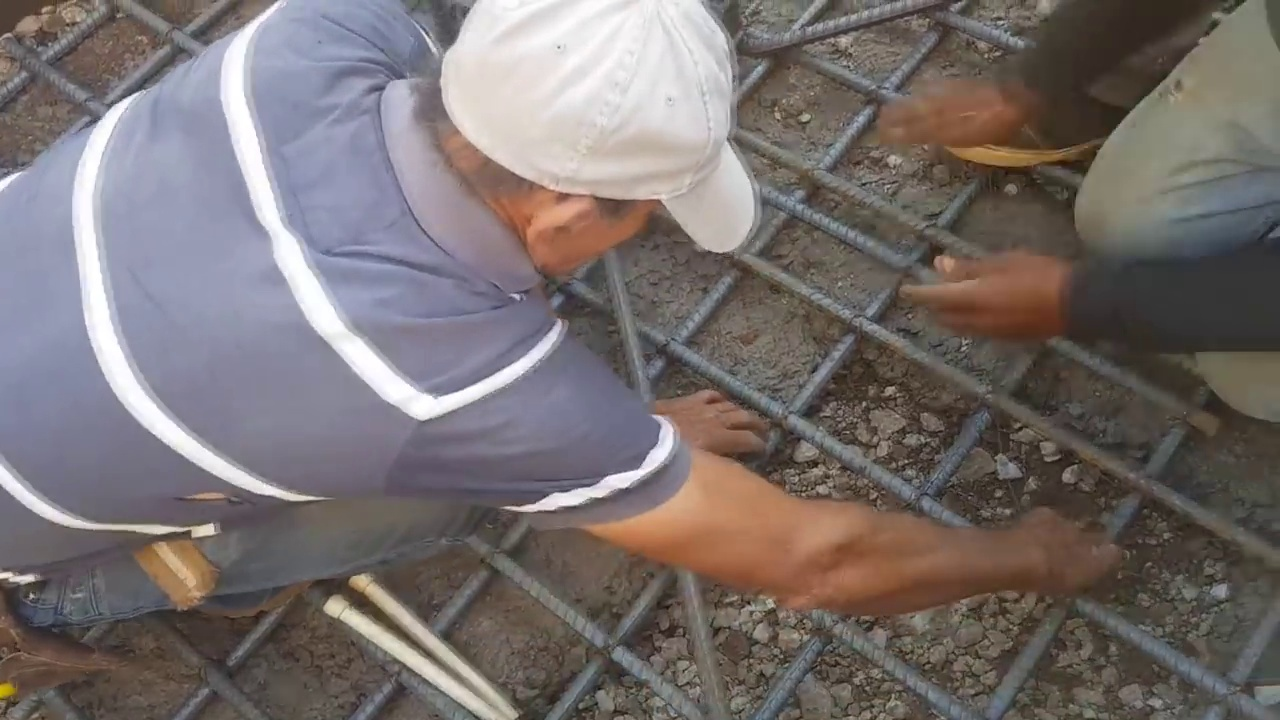helmet-off: (419, 0, 755, 284)
person: (0, 0, 1123, 720), (880, 0, 1280, 354)
